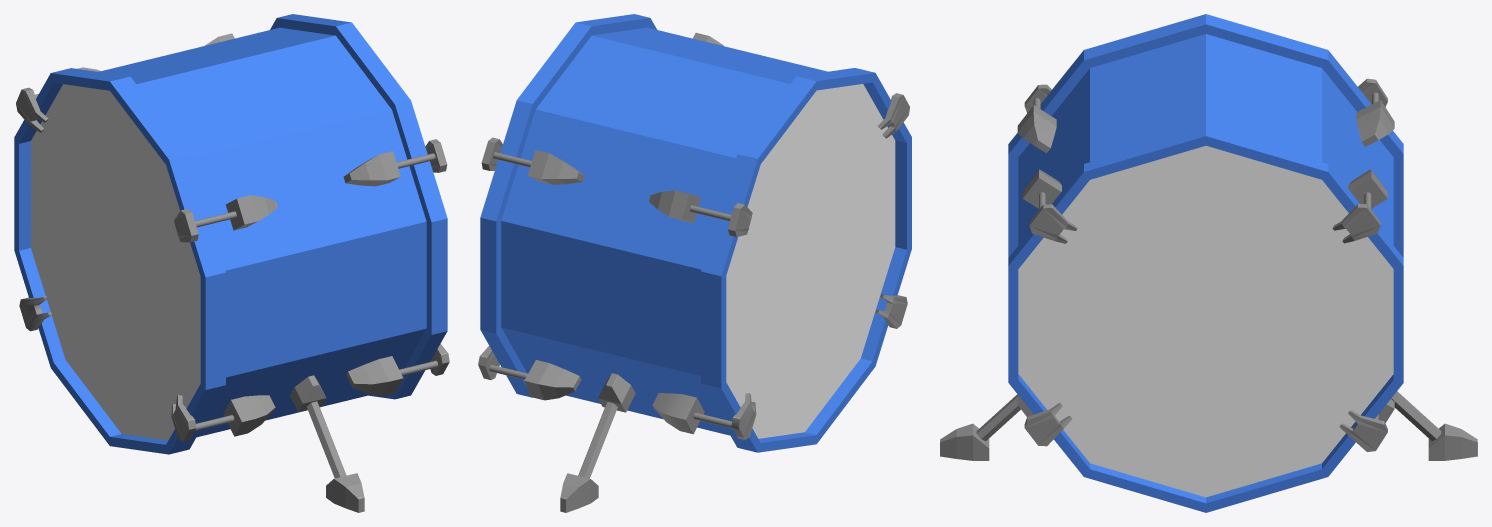
The model's file is BassDrum_Final.FBX.
3 renders of one model, left to right at view 1: azimuth 30°, elevation 25°; view 2: azimuth 150°, elevation 25°; view 3: azimuth 270°, elevation 25°, orthographic. The views are drawn at different scales.
Visible parts, largest first — view 1: A_BD_Final; view 2: A_BD_Final; view 3: A_BD_Final.
Part boxes in pixels (box(x1,y1,x2,y2)): A_BD_Final: box(14, 14, 449, 512); A_BD_Final: box(478, 14, 911, 512); A_BD_Final: box(940, 14, 1477, 512).
Size of the model in its own units: 43.73 by 59.32 by 76.3.
Materials: 1 (1 with a texture image).
